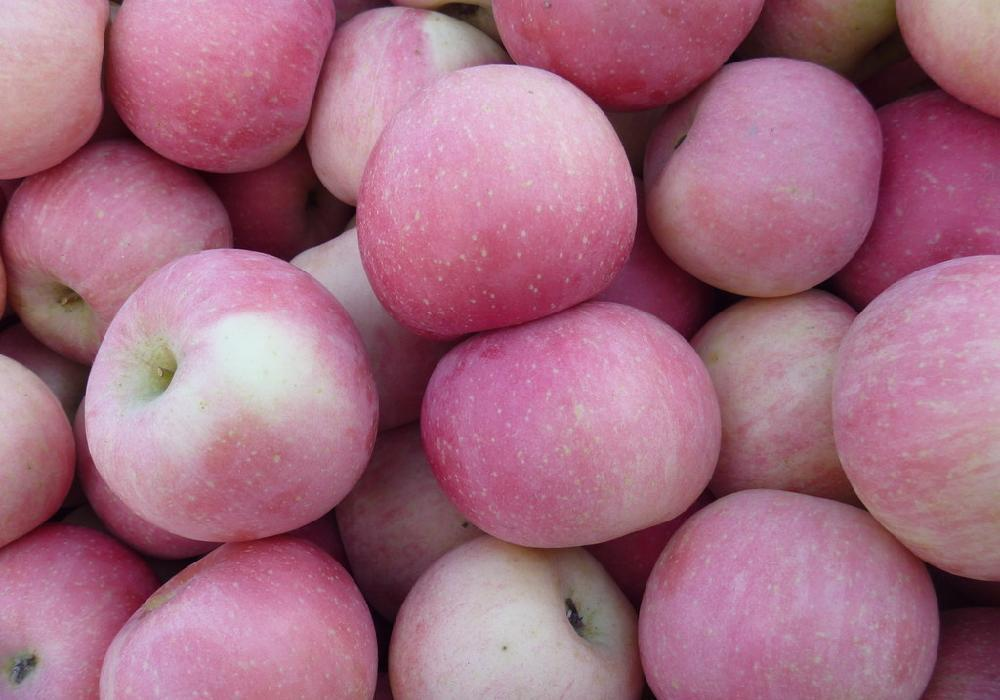apple: (83, 244, 380, 544), (360, 62, 635, 339), (415, 306, 718, 553), (636, 483, 938, 696), (635, 53, 881, 289), (825, 254, 988, 582), (5, 148, 233, 362), (385, 534, 639, 695), (103, 1, 332, 174), (834, 90, 994, 309), (496, 1, 754, 116), (2, 521, 154, 695), (1, 357, 72, 542)
